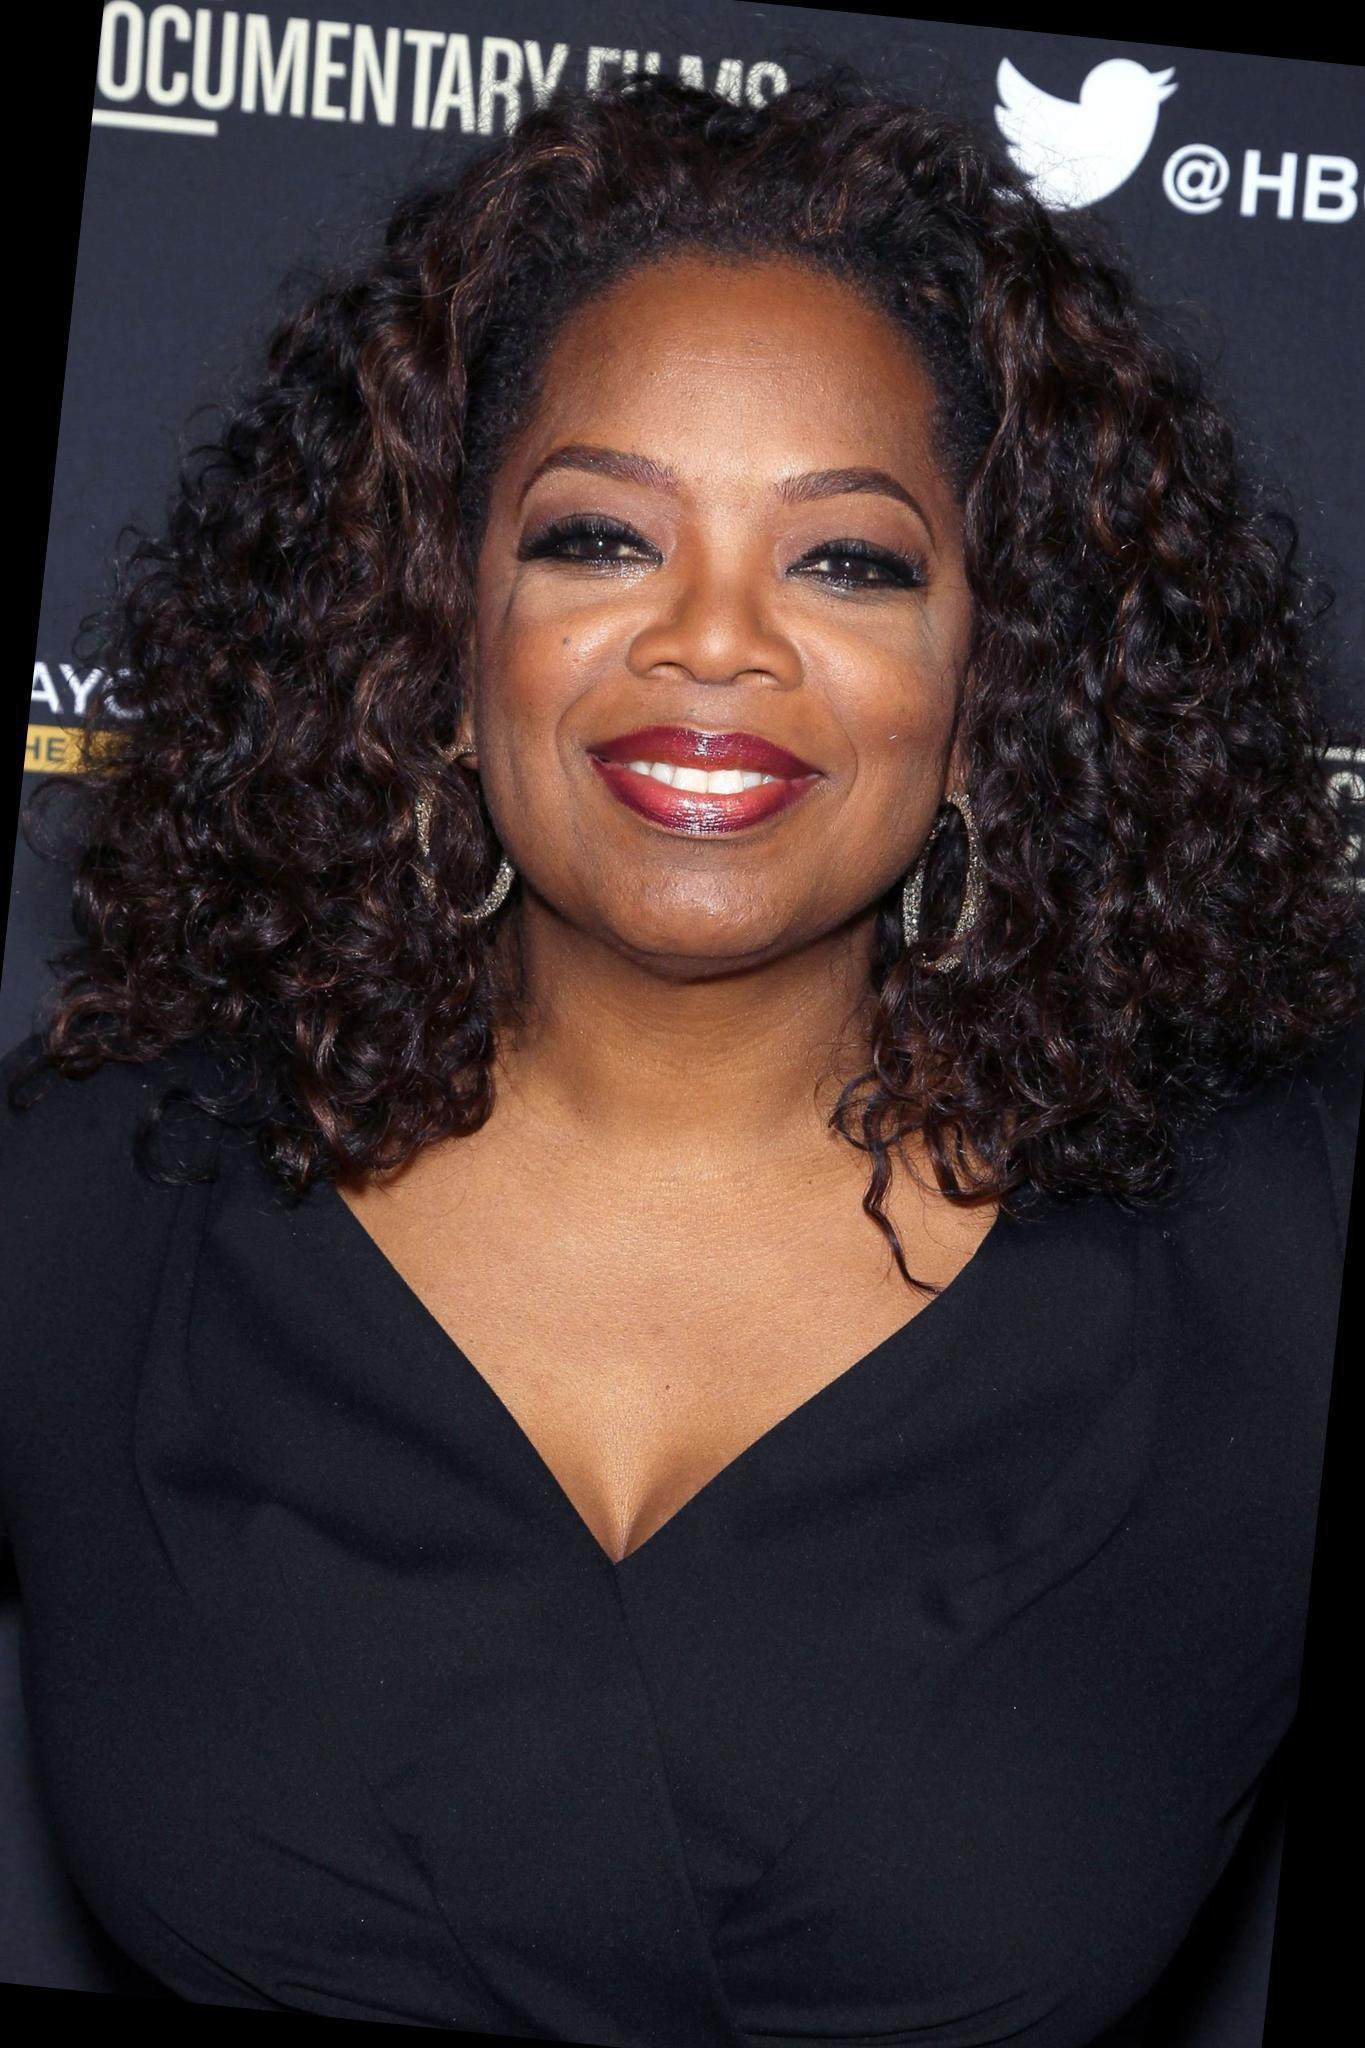Sober: (492, 286, 938, 924)
